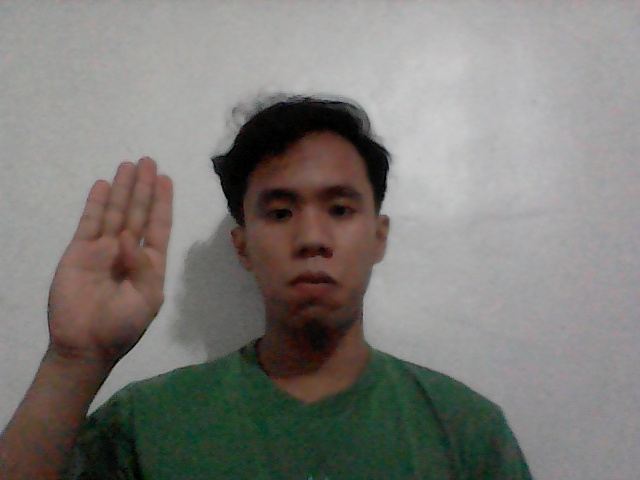B: (34, 149, 209, 380)
